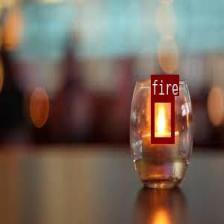fire: (150, 96, 174, 142)
